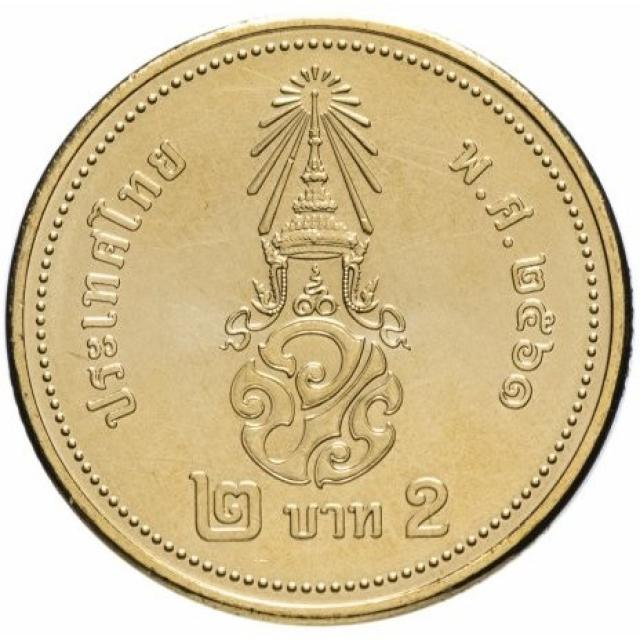2 Bath: (8, 17, 639, 616)
